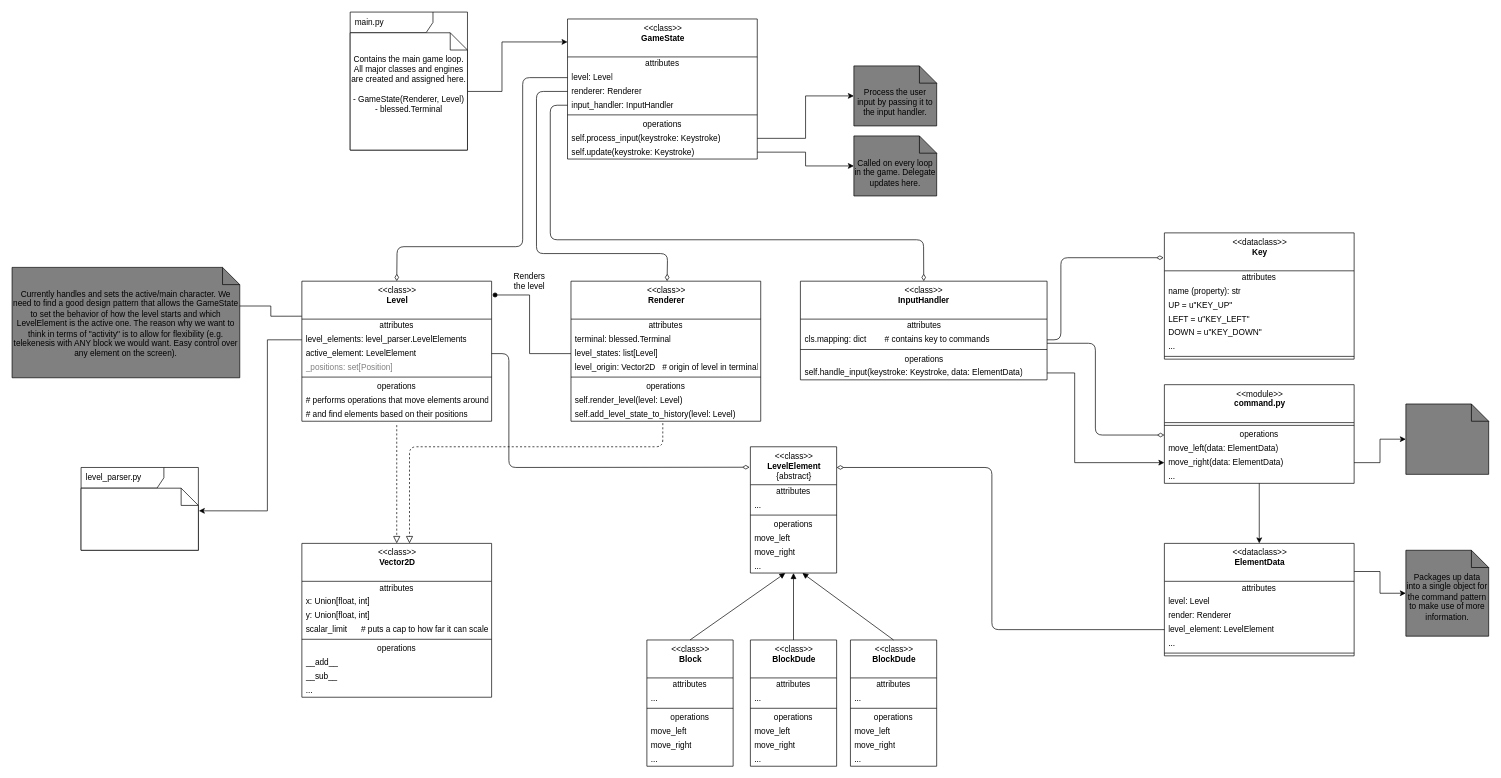
The diagram is 1501 pixels wide and 778 high, and some of its shapes have lost their labels. Here are the shapes that lost their labels. From the top down, the centre of each, then its label:
At pixel 1447 438: "Command pattern, invokes call to behavior within the level elements.".
At pixel 139 518: "Contains handy methods that parse a text file into an object-oriented level.".
